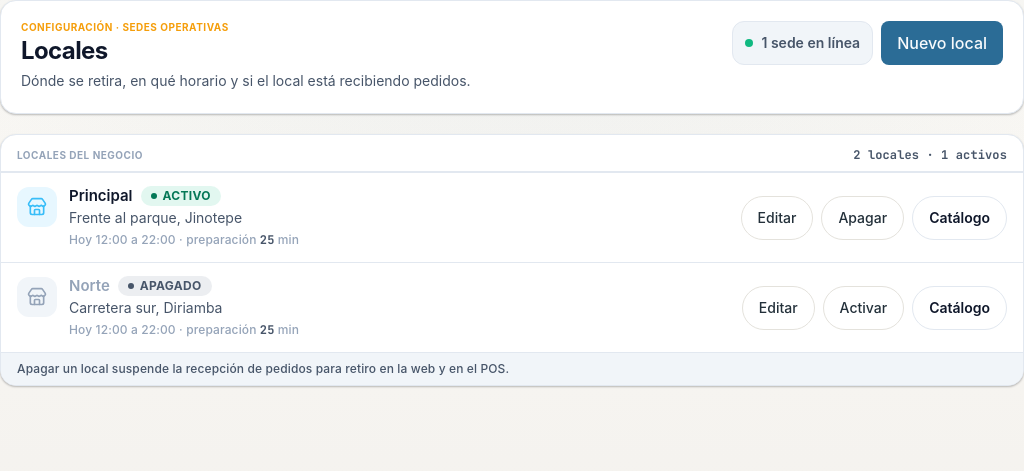
it: AdminLocationsPage › muestra el motivo cuando la API rechaza apagar el único local activo
Click the button with aria-label "Apagar Principal" at [863, 218], box [821,196,904,240]
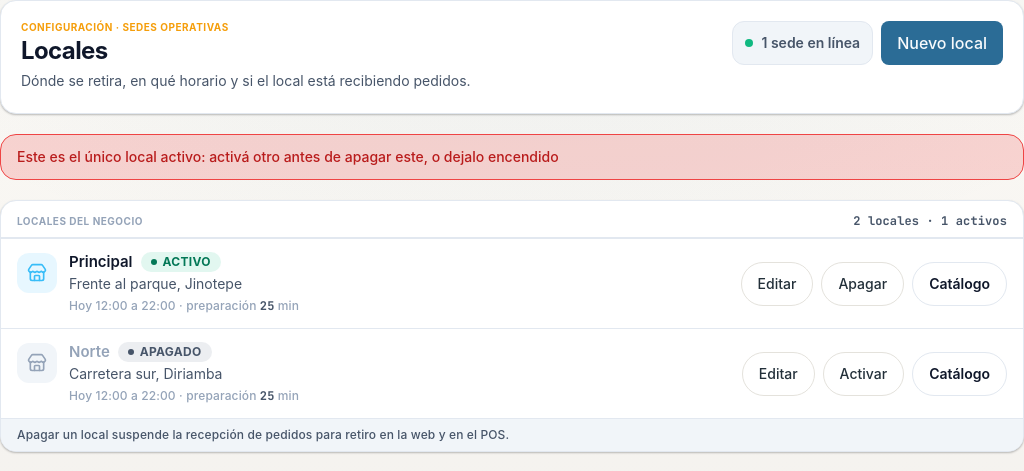
expect the text "Este es el único local activo: activá otro antes de apagar este, o dejalo encendido" is shown: met, box [17,148,559,165]
